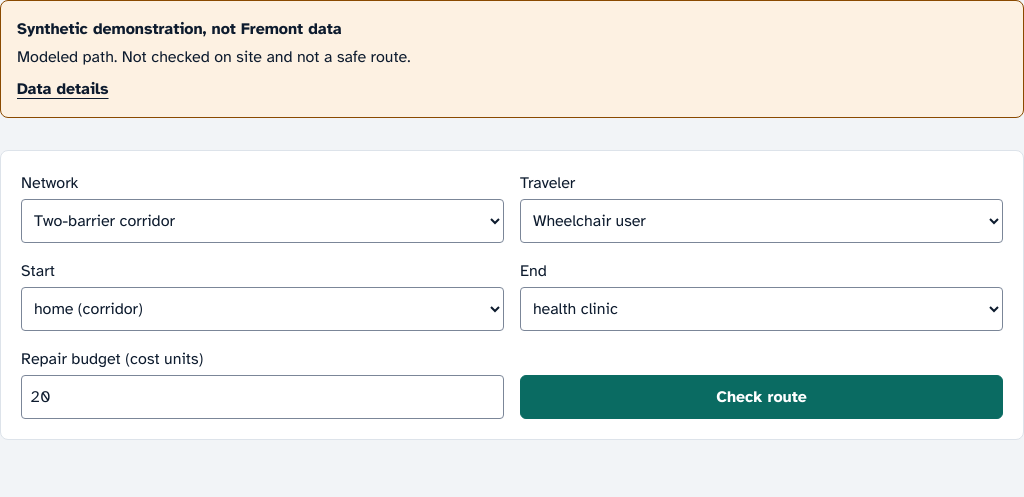
it: moves focus to an invalid budget and names the error on the field
This screenshot has width=1024, height=497.
expect the dropdown labelled "Start" is shown: met, box [21,287,504,331]
Replace the text in the field labelled "Repair budget (cost units)" with "-4" at (262, 397), box [21,375,504,419]
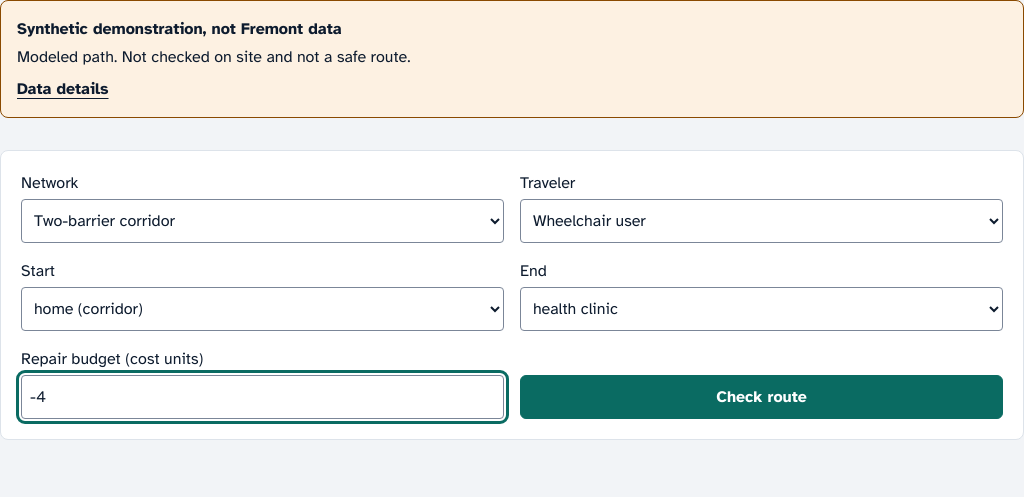
Click the button "Check route".
click(762, 397)  # box [520,375,1003,419]
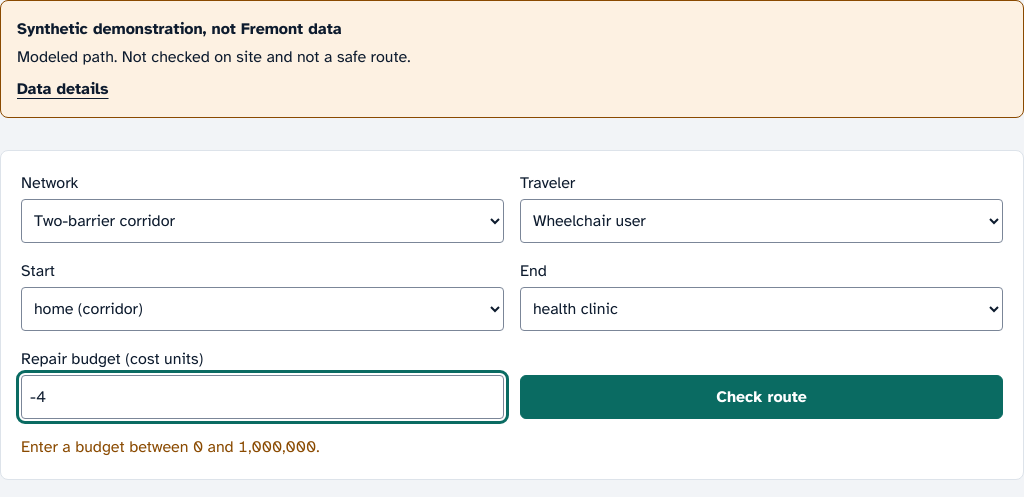
expect the message shows "Enter a budget between 0 and 1,000,000": met, box [21,437,320,457]
